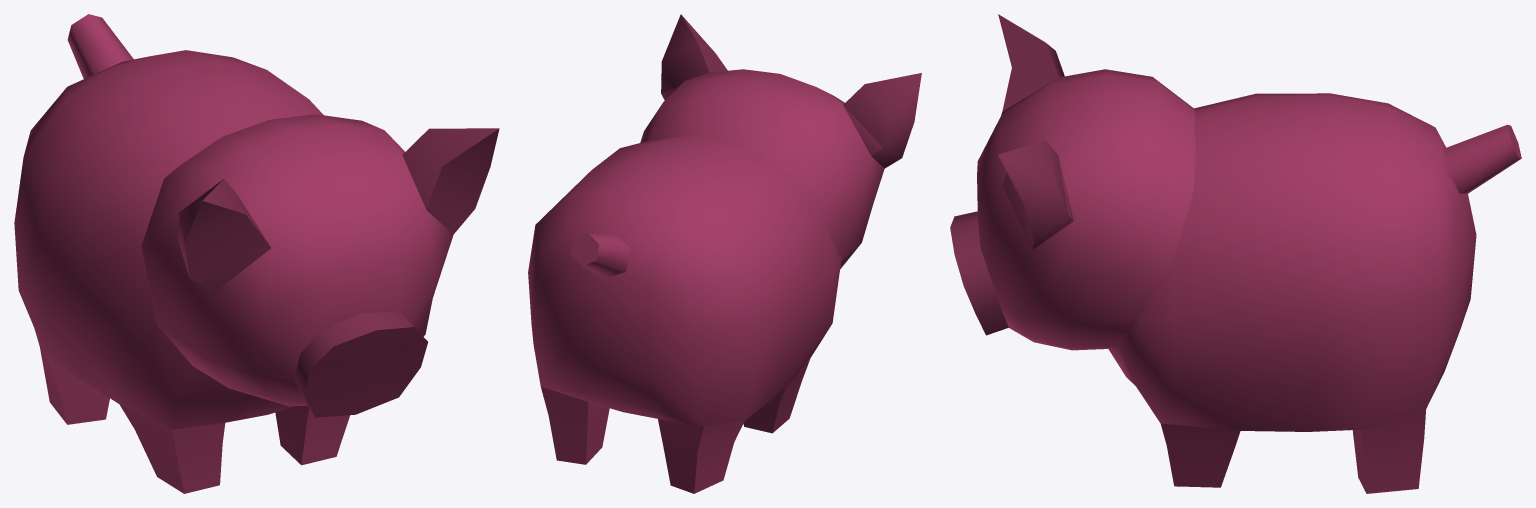
Rendered from toy_piggy_01.fbx.
3 views of the same model, side by side, from view 1: azimuth 30°, elevation 25°; view 2: azimuth 150°, elevation 25°; view 3: azimuth 270°, elevation 25° (orthographic). The views are drawn at different scales.
Parts seen in each view (by area): view 1: toy_piggy_01; view 2: toy_piggy_01; view 3: toy_piggy_01.
Boxes of the visible parts, bbox=[...] form: toy_piggy_01: bbox=[14, 14, 499, 493]; toy_piggy_01: bbox=[528, 14, 921, 493]; toy_piggy_01: bbox=[950, 14, 1521, 493].
Size of the model in its own units: 47.83 by 56.46 by 79.92.
